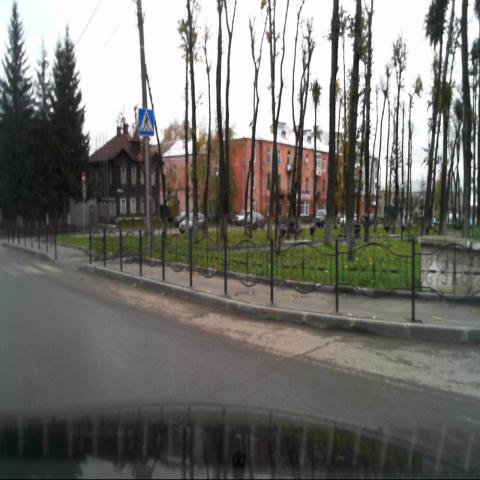5_19_1: (139, 109, 154, 135)
